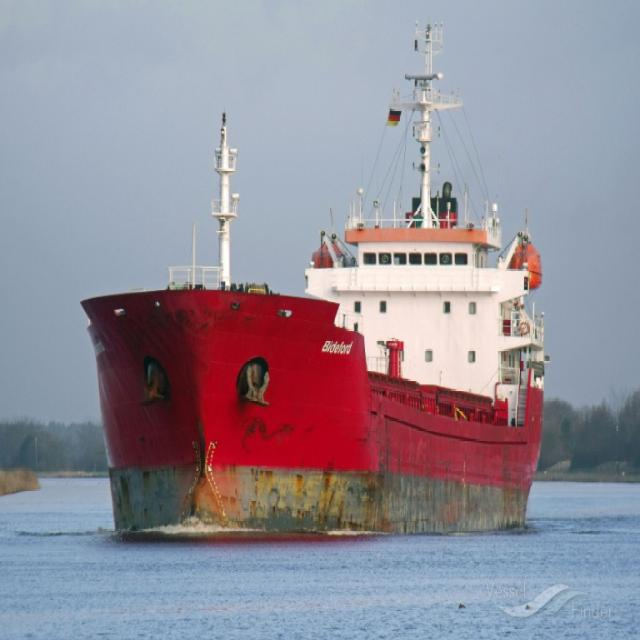Bulk Carrier: (82, 19, 546, 536)
